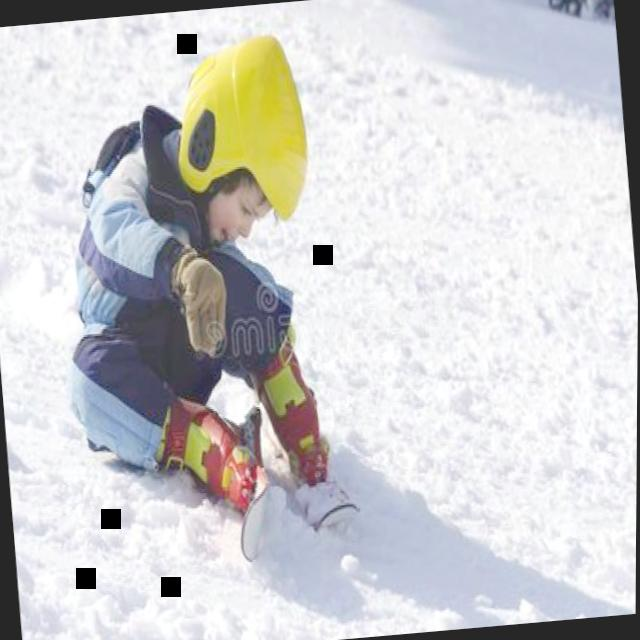Fall-Detected: (31, 4, 379, 576)
